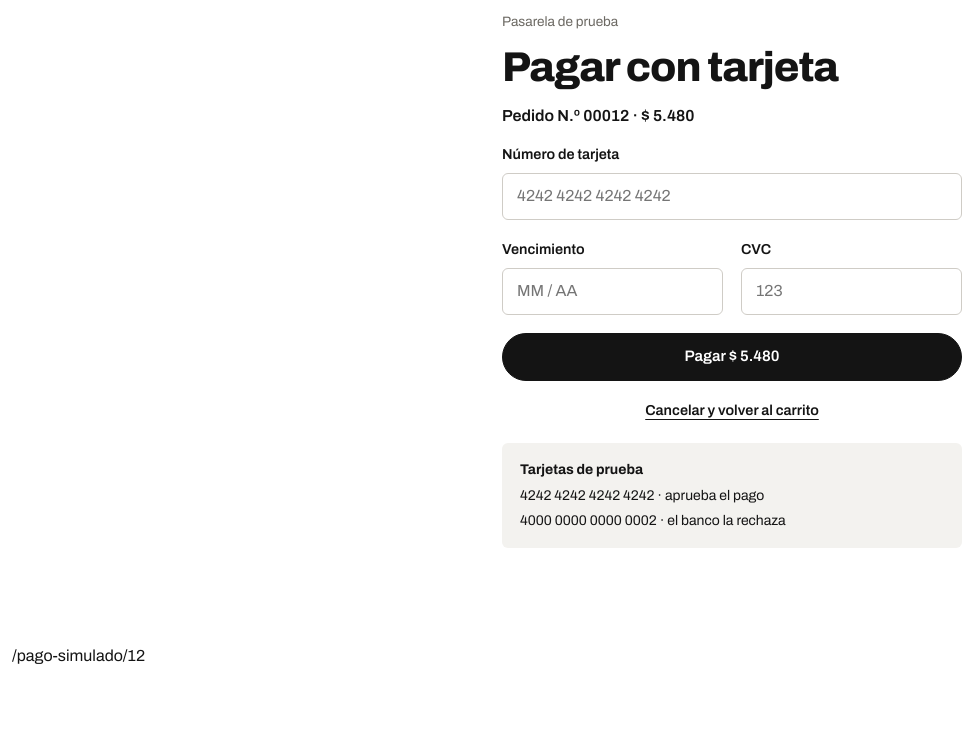
pasarela simulada › si el banco rechaza muestra el motivo
Type "4000000000000002" into the field labelled "Número de tarjeta" at (732, 196), box [502,173,962,220]
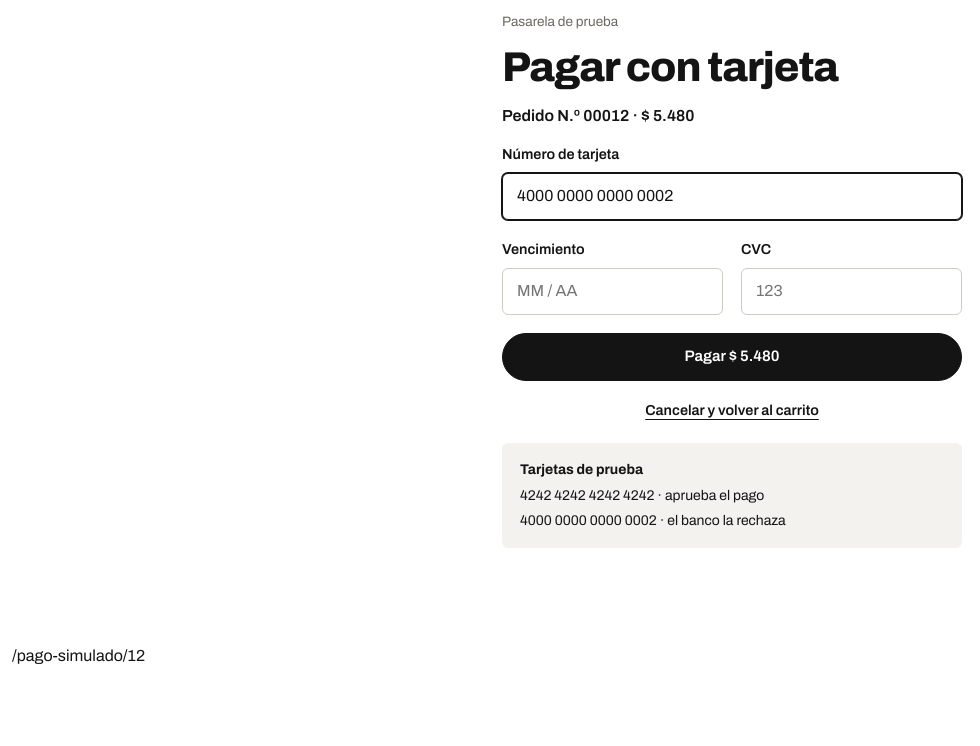
Click the button "Pagar $ 5.480" at (732, 357), box [502,333,962,381]
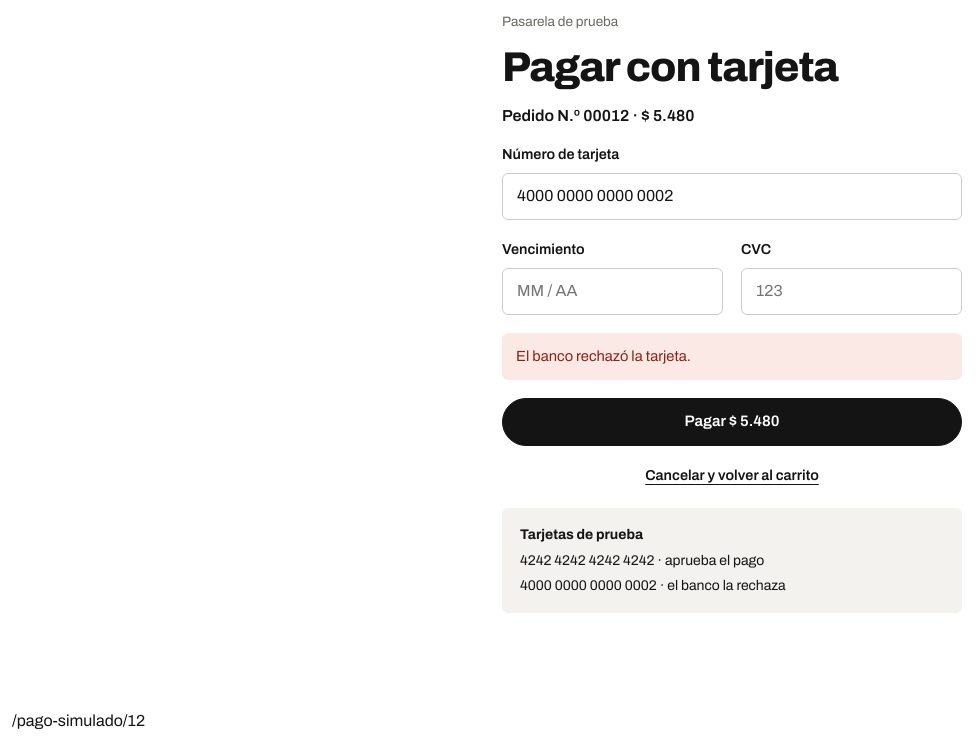
expect the text with test id "ubicacion" reads "/pago-simulado/12": met, box [12,712,145,729]
expect the message reads "El banco rechazó la tarjeta.": met, box [516,348,691,364]
